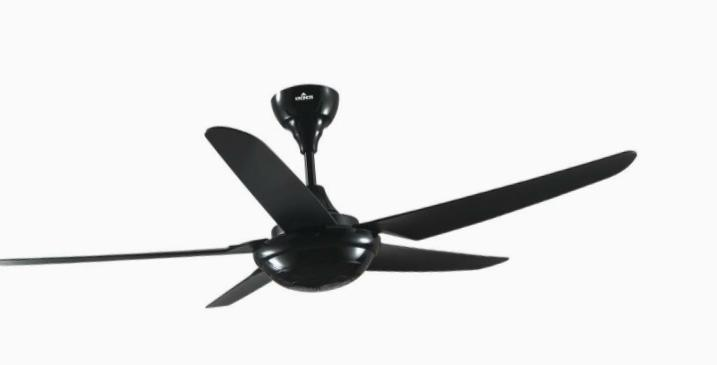fan: (0, 79, 655, 310)
